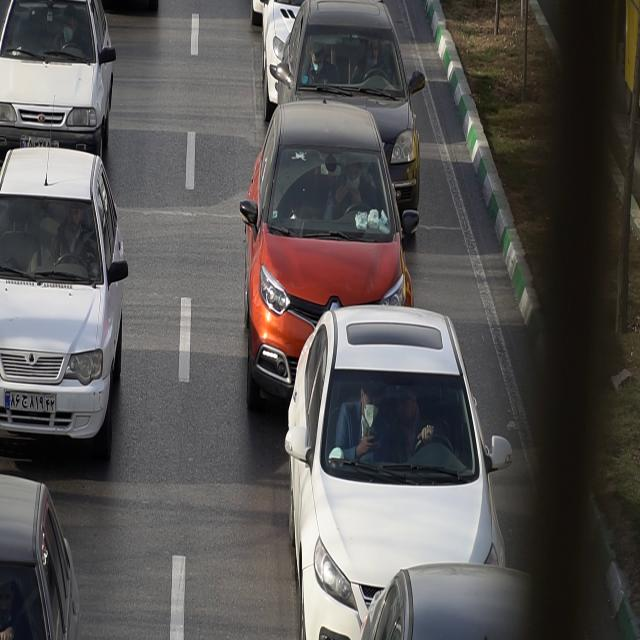car: (285, 306, 512, 640), (240, 101, 416, 419), (1, 150, 127, 458), (272, 2, 424, 238), (0, 0, 117, 150)
